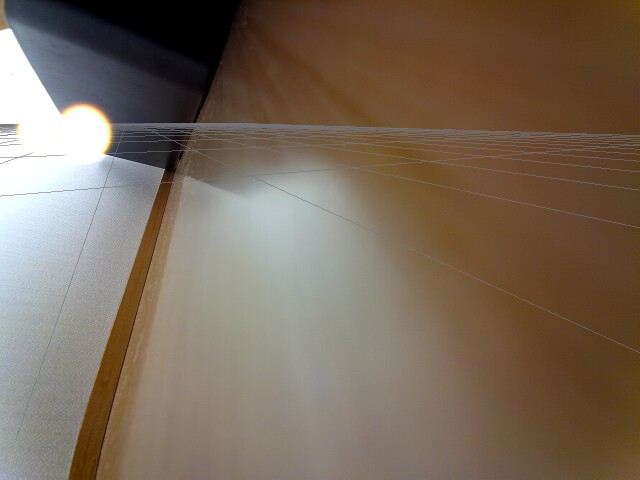fire: (51, 103, 112, 165), (13, 110, 56, 150)
